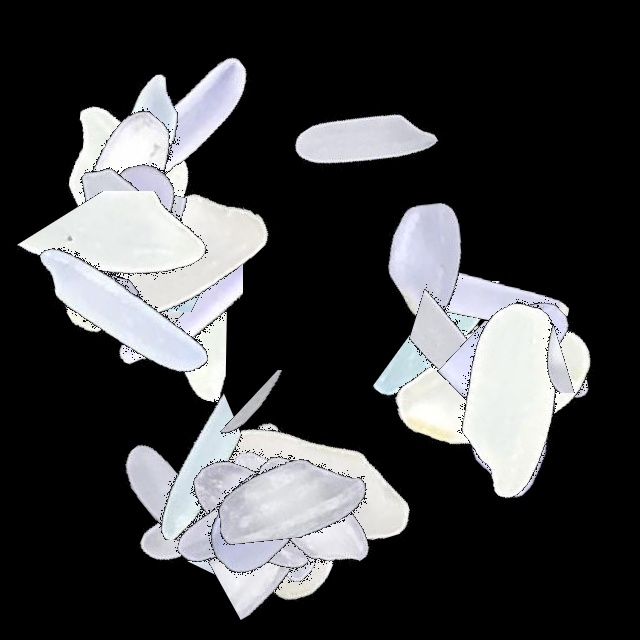Broken: (70, 164, 243, 414), (166, 464, 416, 626), (1, 175, 251, 336), (208, 332, 369, 582), (390, 224, 640, 384), (50, 130, 300, 290), (0, 191, 250, 345), (45, 387, 295, 540), (78, 178, 227, 428), (360, 281, 610, 424), (390, 321, 640, 462), (354, 278, 604, 417), (172, 389, 300, 639), (0, 218, 250, 339), (29, 193, 279, 312), (390, 304, 640, 422), (463, 246, 575, 496), (173, 370, 423, 465), (220, 369, 313, 619), (29, 191, 279, 279), (390, 306, 640, 393), (38, 224, 288, 309), (362, 317, 612, 401), (380, 367, 630, 444)
Full: (159, 390, 409, 640), (181, 360, 431, 610), (0, 108, 250, 358), (117, 390, 367, 640), (149, 390, 399, 640), (80, 390, 330, 640), (5, 71, 255, 321), (51, 4, 301, 254), (54, 382, 304, 632), (39, 131, 289, 381), (129, 390, 379, 640), (390, 241, 640, 491), (299, 136, 549, 386), (183, 390, 433, 640), (390, 310, 640, 560), (4, 44, 254, 294), (237, 15, 487, 265), (369, 261, 619, 511), (0, 52, 250, 302), (390, 218, 640, 468), (111, 390, 361, 640), (390, 256, 640, 506), (9, 93, 259, 343), (390, 273, 640, 523), (136, 390, 386, 640), (0, 182, 250, 432)
